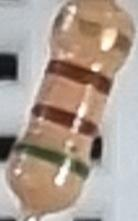Brown: (26, 96, 102, 146), (40, 56, 115, 99)
Green: (12, 136, 90, 180)
Side-Gold: (49, 13, 136, 57)
